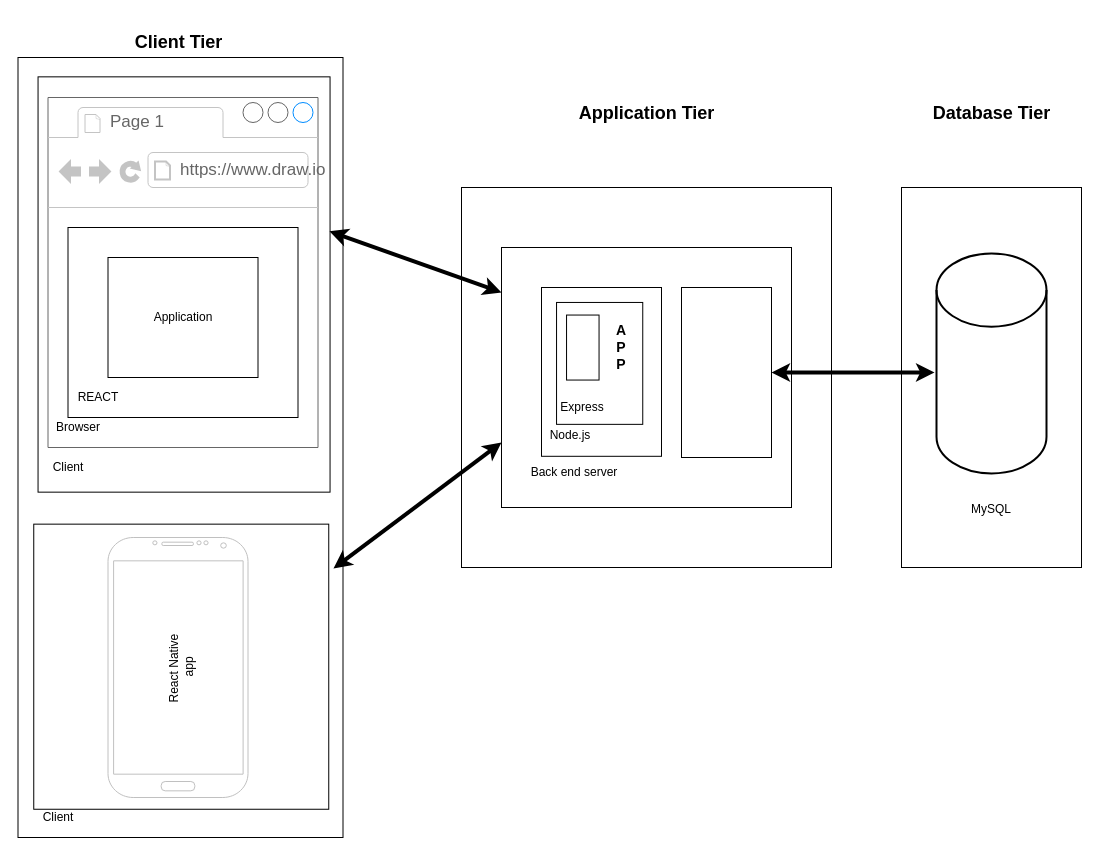
This 1099x855 diagram has some shape labels left out. The shapes that lost their labels are listed below. From the top down, each one's centre as x and y in pixels, then its label:
pixel 582 347: A P I
pixel 726 372: MySQL DB Driver
